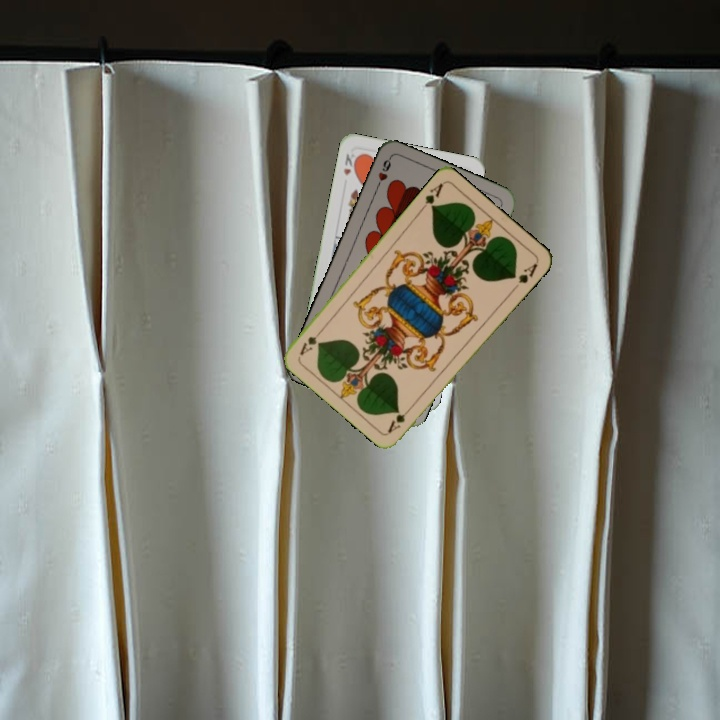GA: (384, 402, 416, 435), (416, 179, 446, 214)
H9: (371, 154, 394, 193)
HK: (339, 150, 360, 178)
